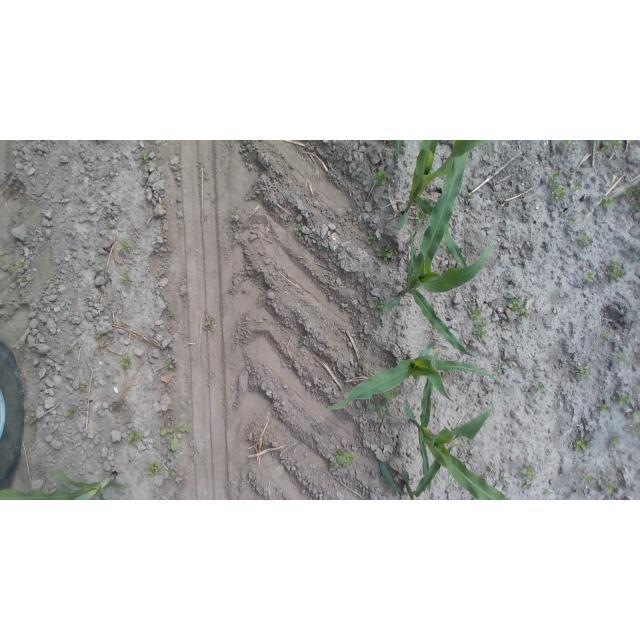Maize: (327, 341, 503, 436), (382, 229, 494, 362), (396, 140, 495, 268), (403, 404, 511, 500), (378, 442, 464, 500), (0, 468, 128, 499)
Weeds: (159, 418, 191, 452), (367, 400, 393, 421), (336, 448, 357, 468), (596, 140, 622, 156), (623, 186, 640, 210), (608, 261, 626, 282), (507, 300, 529, 317), (126, 427, 146, 445), (377, 243, 396, 261), (372, 169, 389, 188), (472, 322, 488, 341), (147, 461, 164, 477), (577, 231, 593, 247), (551, 184, 567, 200), (116, 240, 132, 256), (414, 211, 430, 226), (520, 465, 536, 480), (384, 388, 398, 405), (575, 364, 590, 379), (573, 438, 588, 453), (599, 195, 613, 209), (471, 308, 486, 321), (63, 406, 78, 419), (289, 223, 303, 236), (135, 151, 149, 164), (376, 299, 389, 313), (120, 356, 133, 369), (549, 172, 560, 187), (204, 316, 216, 329), (164, 359, 176, 372), (608, 436, 621, 448), (584, 272, 595, 285), (572, 180, 583, 193), (366, 236, 376, 249), (560, 140, 576, 148), (605, 484, 616, 495), (16, 259, 29, 268), (619, 395, 630, 405), (95, 334, 107, 343), (535, 382, 545, 392), (616, 354, 625, 364), (583, 472, 592, 482), (166, 468, 176, 476), (432, 348, 441, 356), (203, 172, 212, 180), (600, 404, 609, 412), (121, 275, 129, 284), (79, 384, 87, 393), (297, 340, 305, 349), (522, 483, 533, 489), (600, 331, 608, 339), (464, 193, 473, 200), (571, 218, 578, 226), (18, 274, 25, 281), (329, 461, 336, 468), (113, 368, 120, 375), (635, 427, 640, 436), (540, 262, 547, 267), (635, 411, 640, 417), (319, 376, 325, 381), (496, 368, 502, 372), (544, 488, 550, 492), (500, 471, 504, 477), (482, 475, 486, 479)
